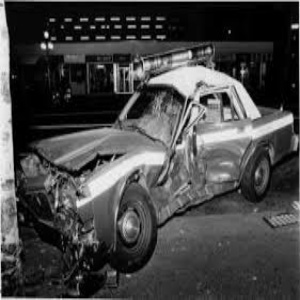door: (154, 143, 242, 206)
